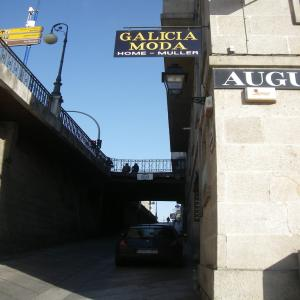Vehicle-registration-plate: (138, 250, 159, 255)
